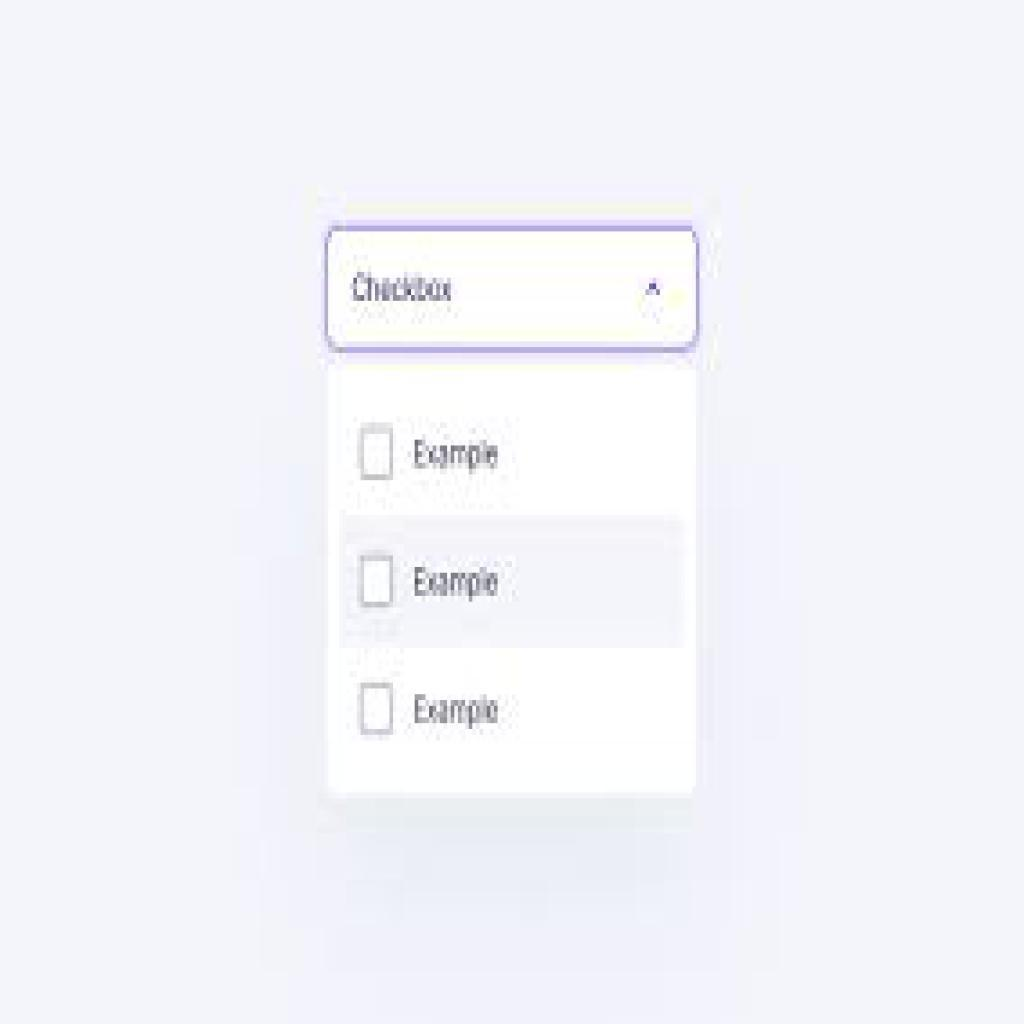checkbox: (359, 425, 394, 479), (359, 554, 394, 606), (361, 682, 393, 733)
dropdown: (324, 223, 702, 352)
label: (407, 687, 509, 735), (413, 430, 508, 475), (409, 559, 506, 601)
